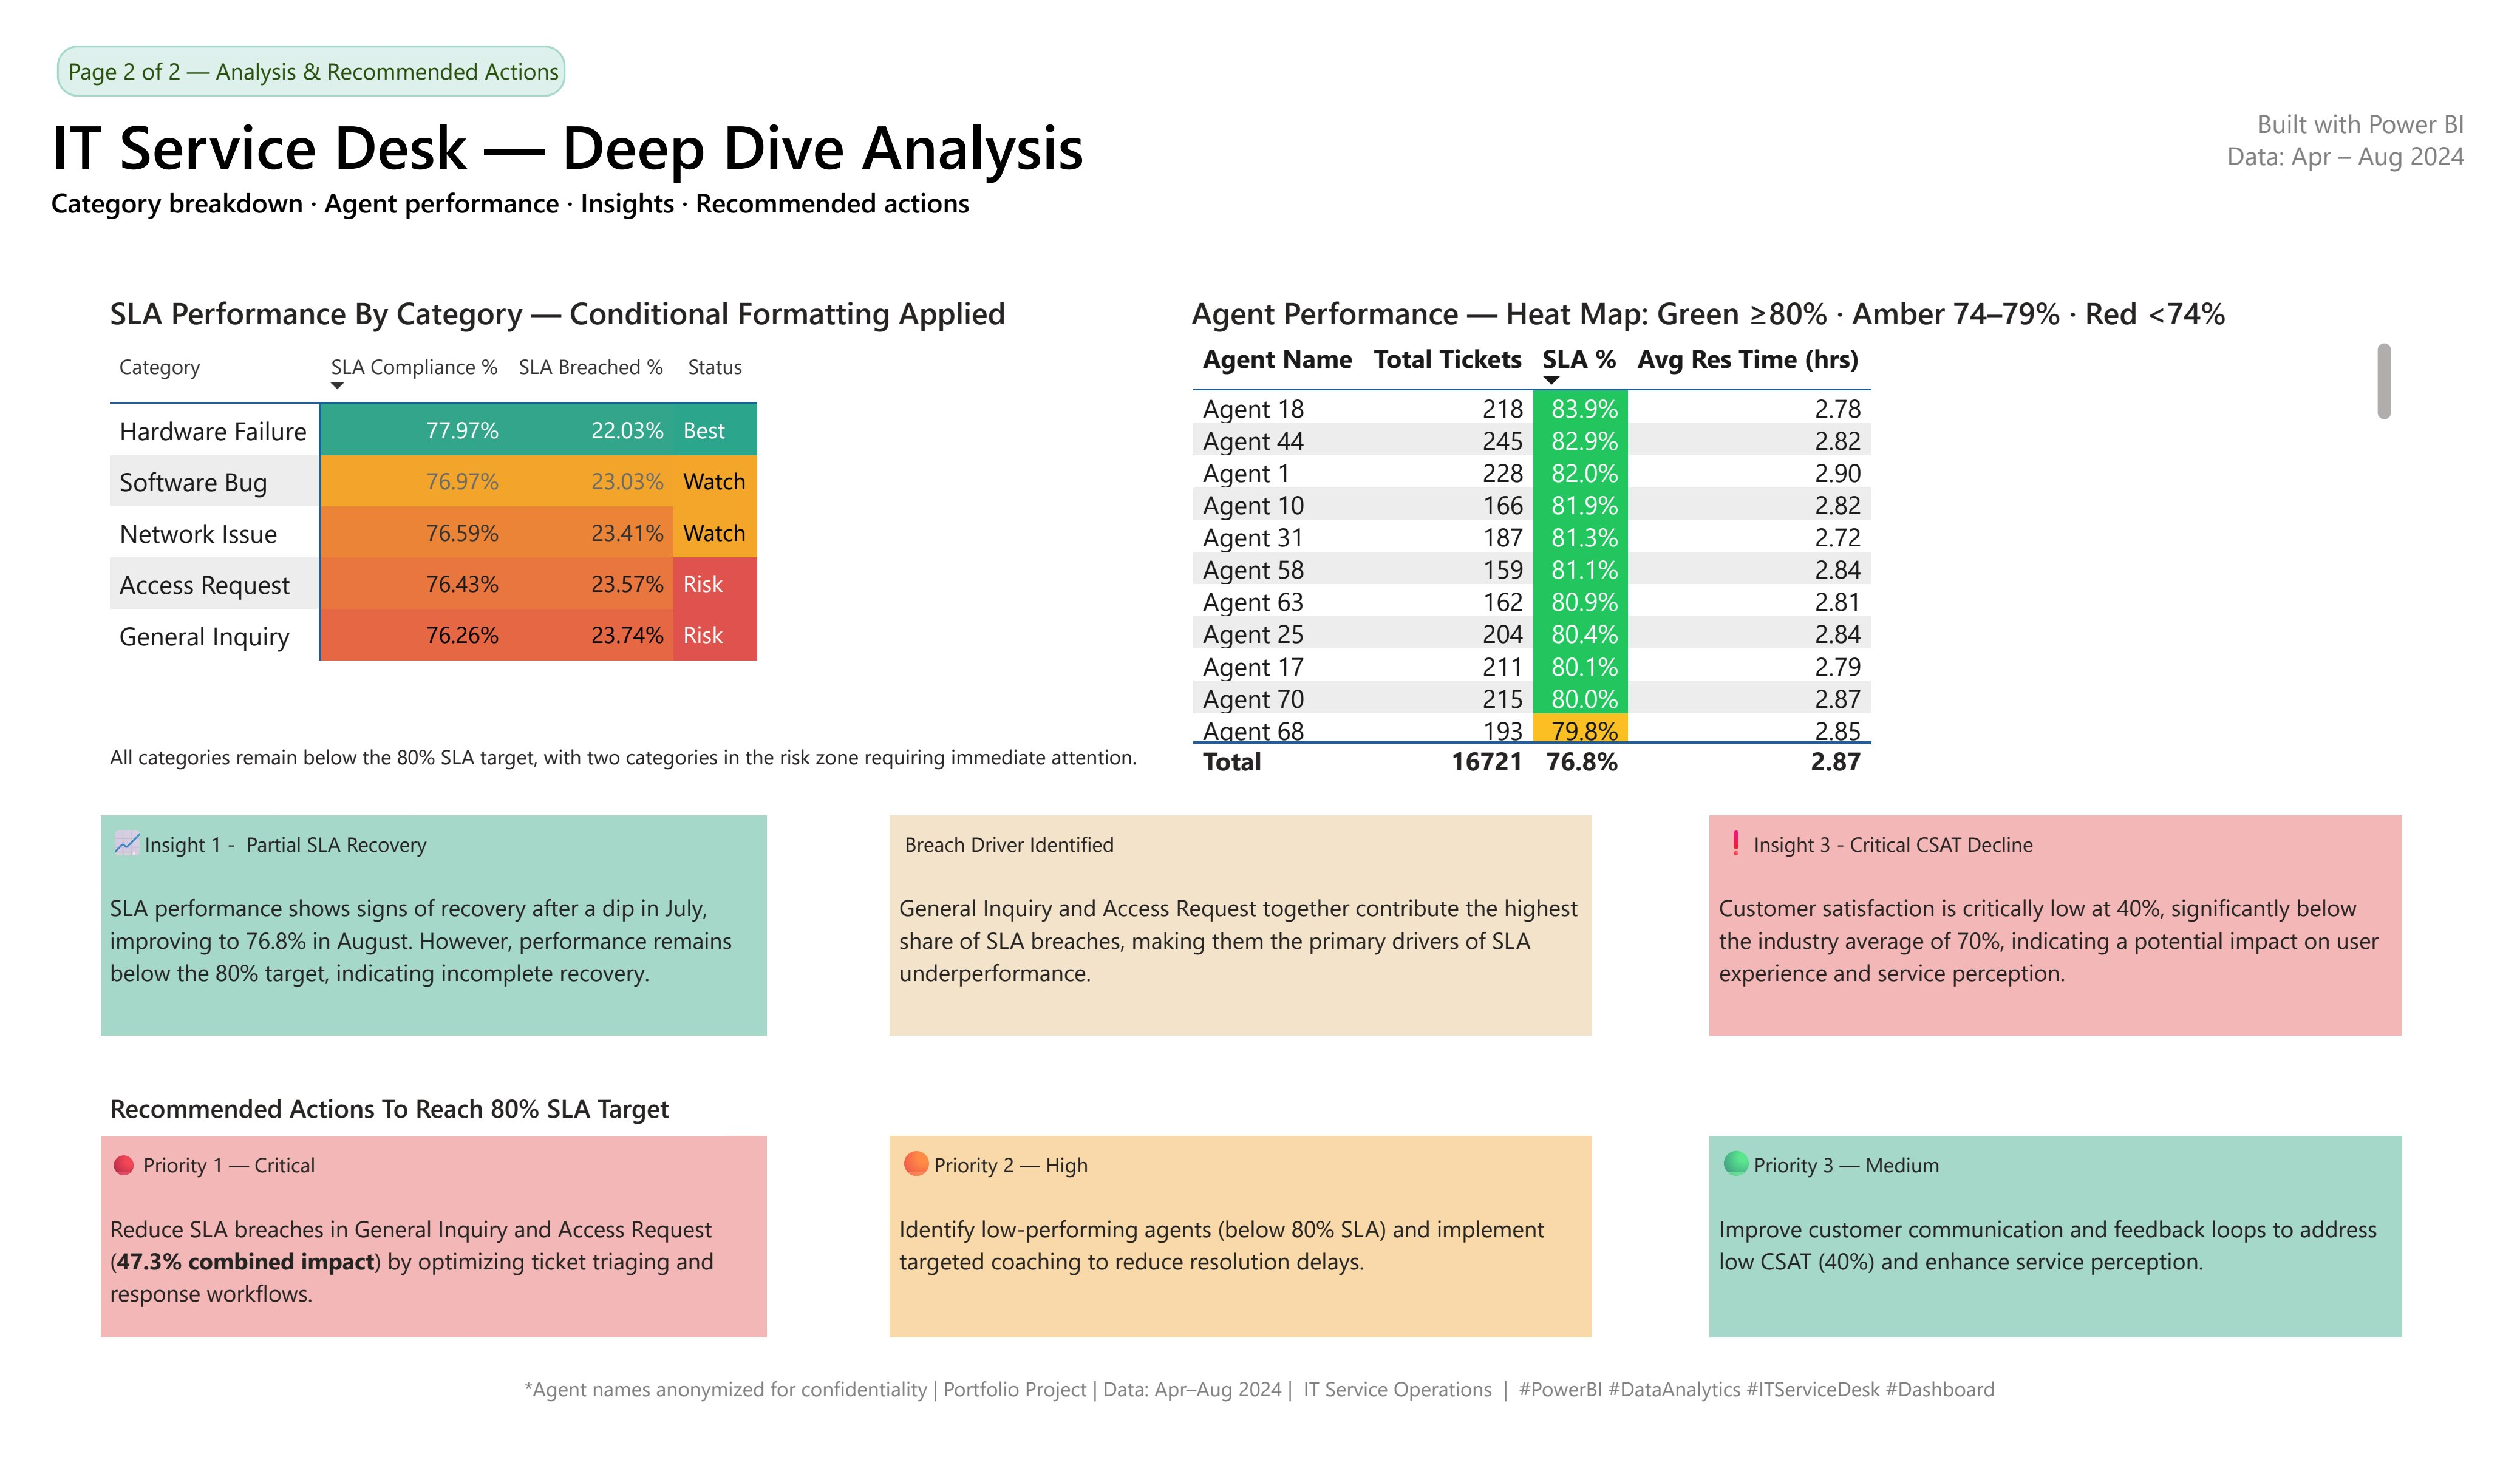

What the dashboard file says about the page in this screenshot:
{"tool":"powerbi","page":{"name":"Page 2","canvas":[1280,720],"ordinal":1},"visuals":[{"type":"pivotTable","title":"SLA Performance By Category — Conditional Formatting Applied","fields":{"Rows":["IT.topic"],"Values":["IT.SLA Met %","IT.SLA Breached %","IT.SLA Status"]},"box":[29,130,570,208],"z":0},{"type":"tableEx","title":"Agent Performance — Heat Map: Green ≥80% · Amber 74–79% · Red <74%","fields":{"Values":["IT.agent_name","IT.Total Tickets","IT.SLA Compliance %","IT.Average Resolution Time (hrs)"]},"box":[599,130,643,260],"z":1000},{"type":"textbox","box":[5.9,0,267.6,27.5],"z":2000},{"type":"textbox","box":[0,27.3,607.1,72.9],"z":3000},{"type":"textbox","box":[1138,27.5,142,46.5],"z":4000},{"type":"textbox","box":[0,693,1280,27],"z":5000},{"type":"textbox","box":[29,360,557,31],"z":6000},{"type":"textbox","box":[29,406,351,116],"z":7000},{"type":"textbox","box":[445,406,370,116],"z":8000},{"type":"textbox","box":[877,406,365,116],"z":9000},{"type":"textbox","box":[29,575,351,106],"z":10000},{"type":"textbox","box":[445,575,370,106],"z":11000},{"type":"textbox","box":[877,575,365,106],"z":12000},{"type":"textbox","box":[29,546,330,29],"z":13000}]}

Visuals, with their boxes on the page's 1280x720 design canvas (x1, y1, x2, y2). These are canvas units, not pixel positions in the 2520x1457 screenshot, which may show the page scaled, cropped or inside an application window:
"SLA Performance By Category — Conditional Formatting Applied" pivotTable: {"x1": 29, "y1": 130, "x2": 599, "y2": 338}
"Agent Performance — Heat Map: Green ≥80% · Amber 74–79% · Red <74%" tableEx: {"x1": 599, "y1": 130, "x2": 1242, "y2": 390}
textbox: {"x1": 6, "y1": 0, "x2": 274, "y2": 28}
textbox: {"x1": 0, "y1": 27, "x2": 607, "y2": 100}
textbox: {"x1": 1138, "y1": 28, "x2": 1280, "y2": 74}
textbox: {"x1": 0, "y1": 693, "x2": 1280, "y2": 720}
textbox: {"x1": 29, "y1": 360, "x2": 586, "y2": 391}
textbox: {"x1": 29, "y1": 406, "x2": 380, "y2": 522}
textbox: {"x1": 445, "y1": 406, "x2": 815, "y2": 522}
textbox: {"x1": 877, "y1": 406, "x2": 1242, "y2": 522}
textbox: {"x1": 29, "y1": 575, "x2": 380, "y2": 681}
textbox: {"x1": 445, "y1": 575, "x2": 815, "y2": 681}
textbox: {"x1": 877, "y1": 575, "x2": 1242, "y2": 681}
textbox: {"x1": 29, "y1": 546, "x2": 359, "y2": 575}
